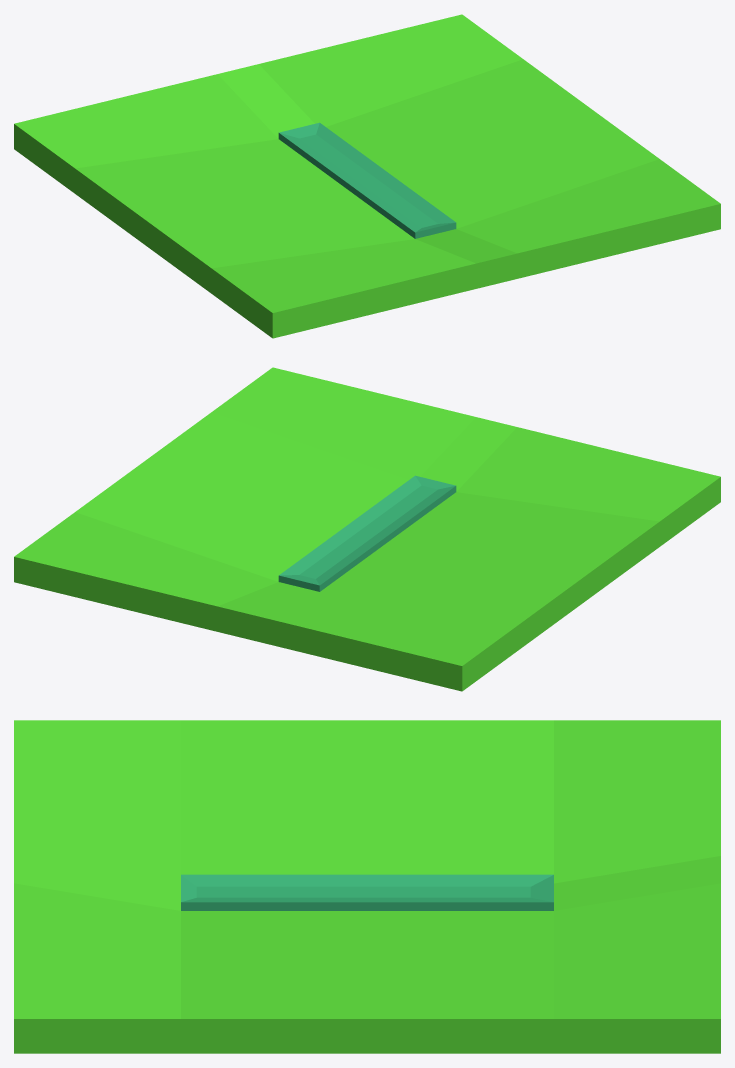
Rendered from SleeveWınd.fbx.
The picture shows the model from 3 angles, top to bottom: view 1: azimuth 30°, elevation 25°; view 2: azimuth 150°, elevation 25°; view 3: azimuth 270°, elevation 25°; orthographic projection. The views are drawn at different scales.
Visible parts, largest first — view 1: Cube; view 2: Cube; view 3: Cube.
Part boxes in pixels (x1,y1,x2,y2): Cube: (14, 14, 720, 338); Cube: (14, 367, 720, 691); Cube: (14, 720, 720, 1053).
Bounding box in the file's own units: 30.88 × 1.67 × 30.88.
